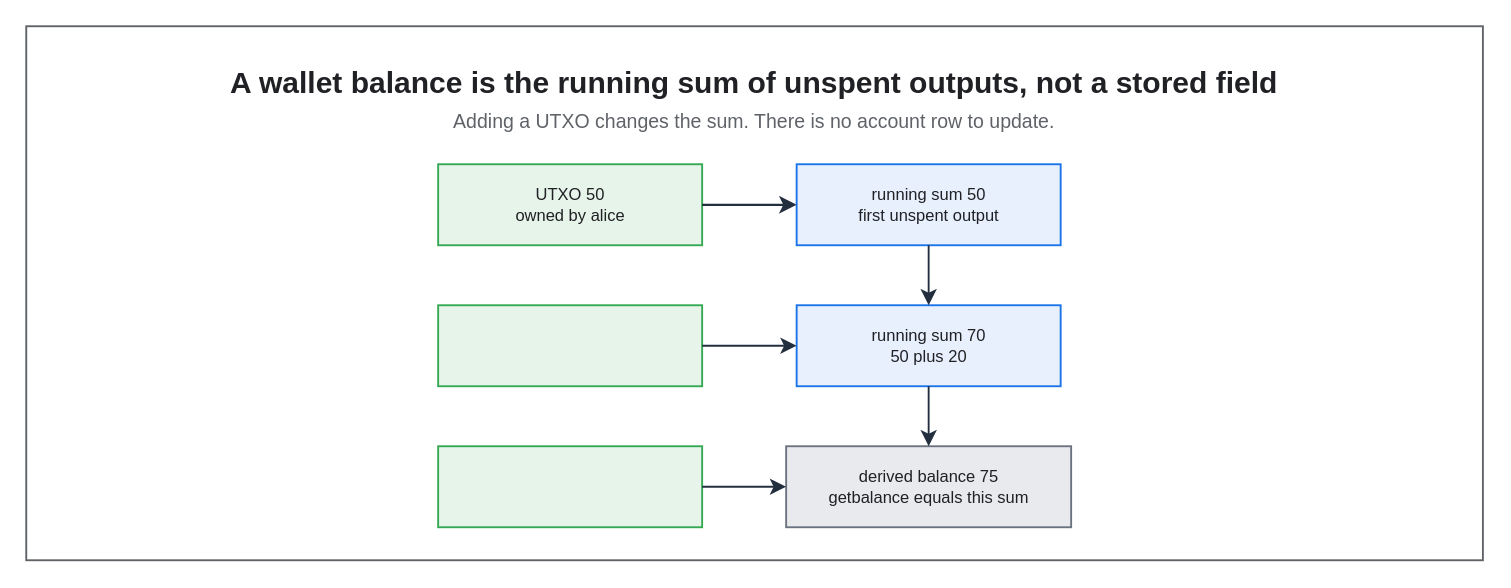
Some shapes in this 1511 by 588 pixel diagram are drawn without their labels. Each missing label, with the box of its shape:
UTXO 20 owned by alice: (436, 304, 702, 387)
UTXO 5 owned by alice: (436, 445, 702, 528)
